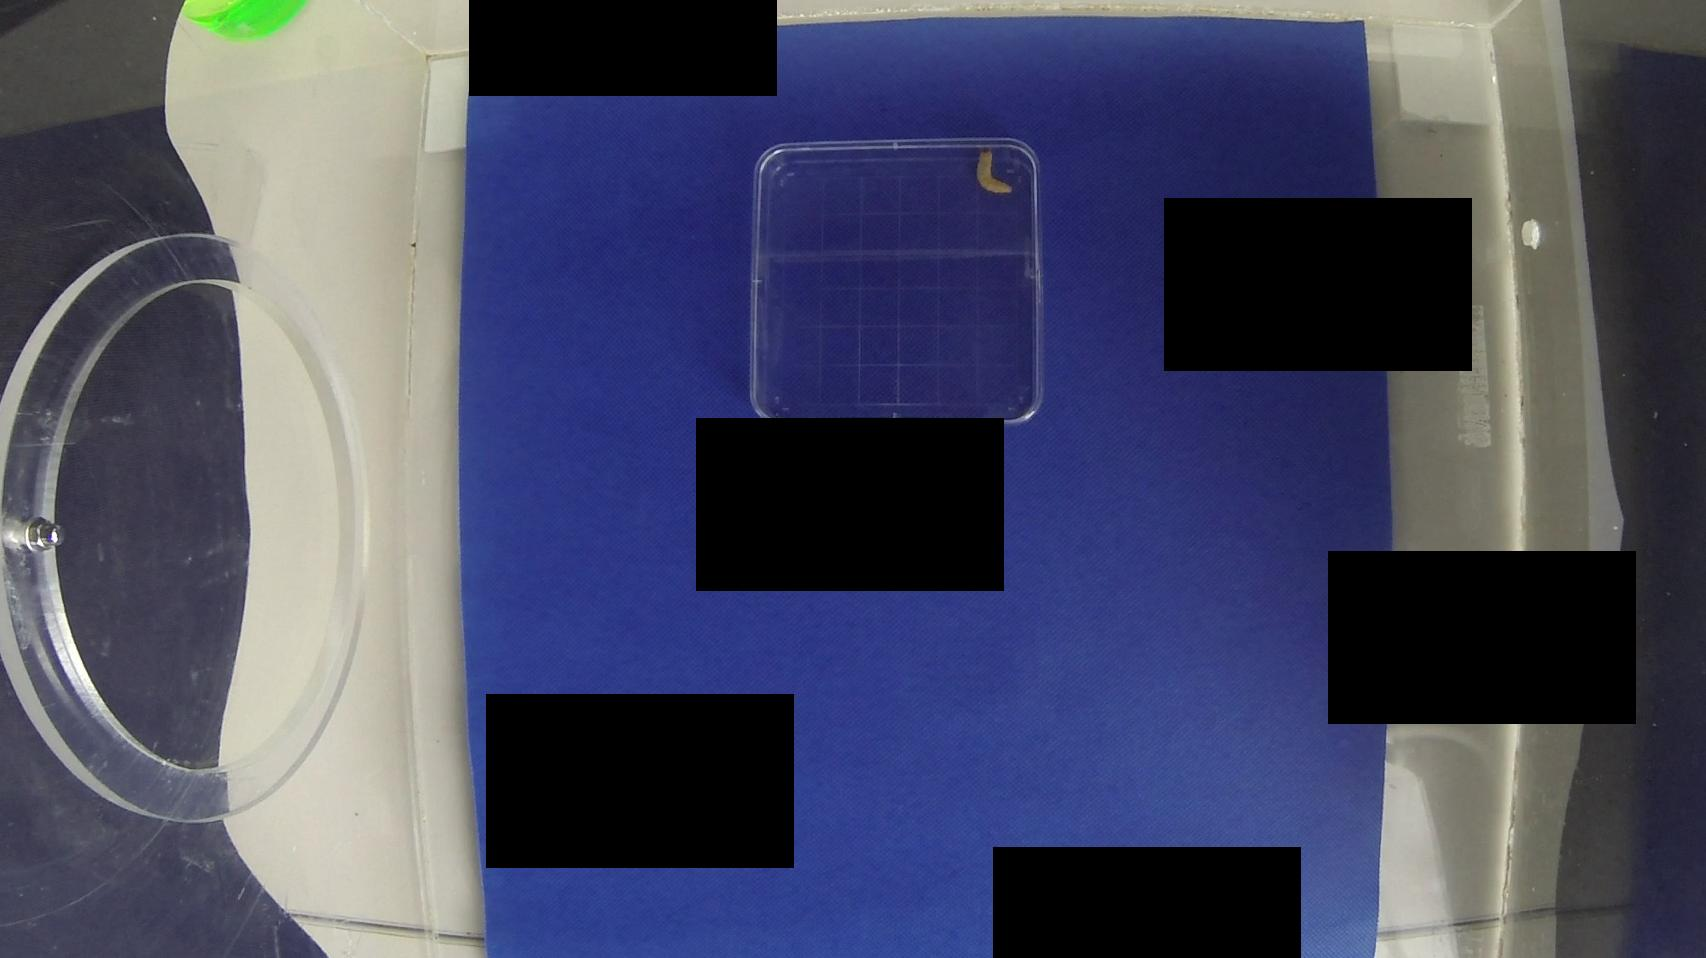larva: (964, 141, 1020, 198)
